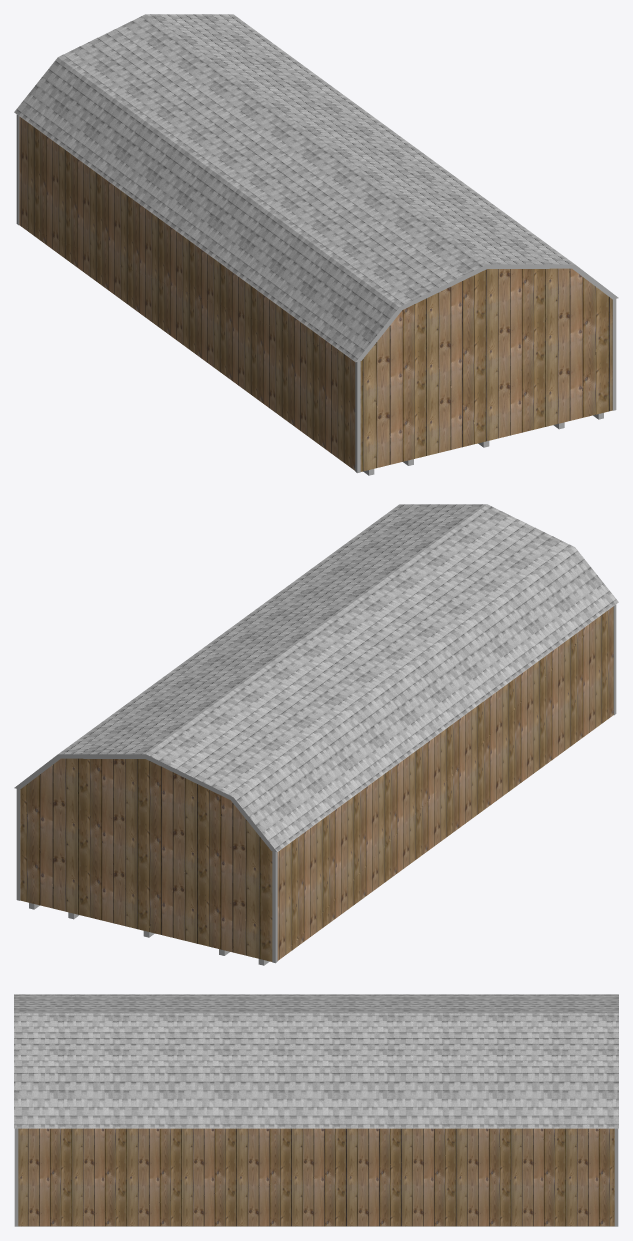
The model's file is Dutch Barn_14x32.obj.
3 renders of one model, top to bottom at view 1: azimuth 30°, elevation 25°; view 2: azimuth 150°, elevation 25°; view 3: azimuth 270°, elevation 25°, orthographic. The views are drawn at different scales.
Visible parts, largest first — view 1: Roof, Shed, Trim, Sides; view 2: Roof, Shed, Trim, Sides; view 3: Roof, Shed, Trim, Floor.
Boxes of the visible parts, x1,y1,x2,y2 form: Roof: (14,14,574,361); Shed: (19,116,612,471); Trim: (16,114,616,473); Sides: (356,264,618,361); Roof: (58,504,618,851); Shed: (20,606,613,961); Trim: (16,604,616,963); Sides: (14,754,276,851); Roof: (14,994,618,1128); Shed: (18,1128,614,1226); Trim: (14,1128,618,1226); Floor: (18,1226,614,1226).
Size of the model in its own units: 4.91 by 3.27 by 11.02.
